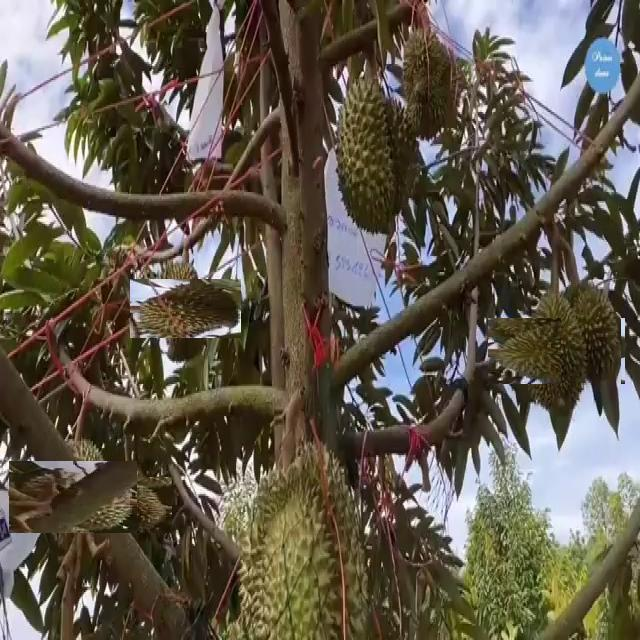durian: (329, 72, 426, 242), (506, 299, 608, 402), (23, 447, 123, 548), (143, 266, 229, 351), (561, 280, 621, 396), (394, 28, 454, 141), (86, 467, 162, 544)
